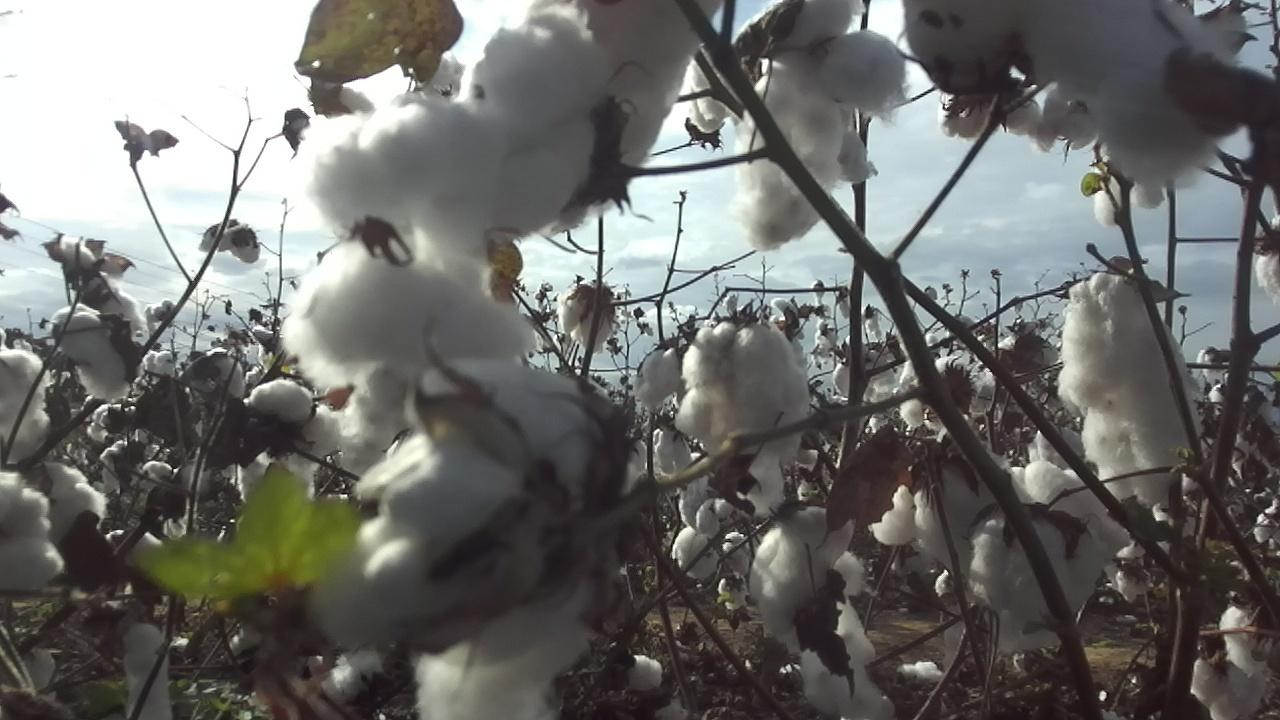cotton_ready: (310, 0, 718, 254), (320, 364, 625, 651), (733, 2, 907, 251), (1021, 0, 1235, 200), (1059, 269, 1200, 507), (283, 245, 537, 377), (412, 579, 635, 720), (870, 455, 1040, 575), (673, 320, 814, 461), (968, 514, 1099, 617), (244, 377, 347, 505), (749, 507, 852, 634), (1005, 460, 1129, 557), (898, 0, 1025, 94), (51, 290, 144, 405), (801, 604, 892, 720), (1190, 605, 1274, 720), (342, 370, 420, 479), (0, 470, 64, 595), (902, 359, 997, 437), (0, 324, 54, 458), (936, 86, 1042, 139), (675, 485, 733, 579), (47, 464, 110, 549), (557, 280, 619, 355), (1094, 169, 1166, 225), (1039, 84, 1096, 154), (737, 454, 789, 510), (1252, 215, 1280, 311)
